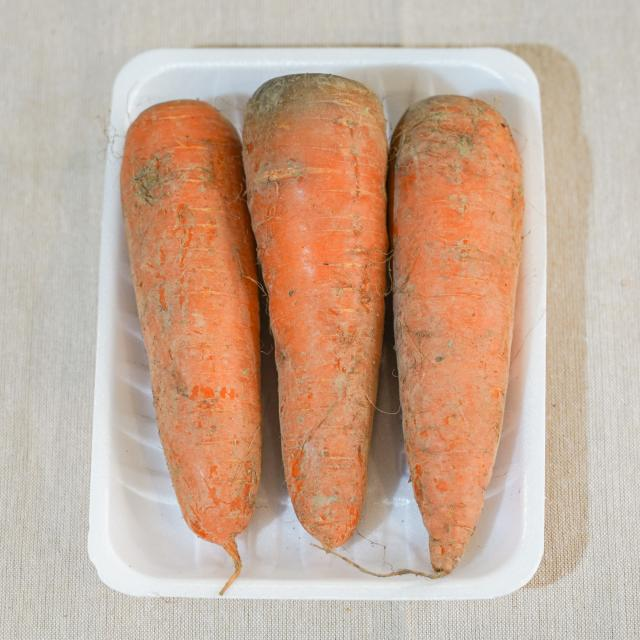carrot: (121, 100, 272, 595), (243, 71, 392, 553), (392, 97, 528, 573)
